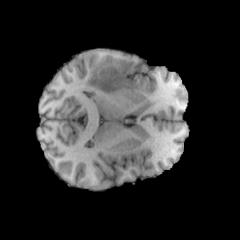glioma: (85, 56, 133, 94)
